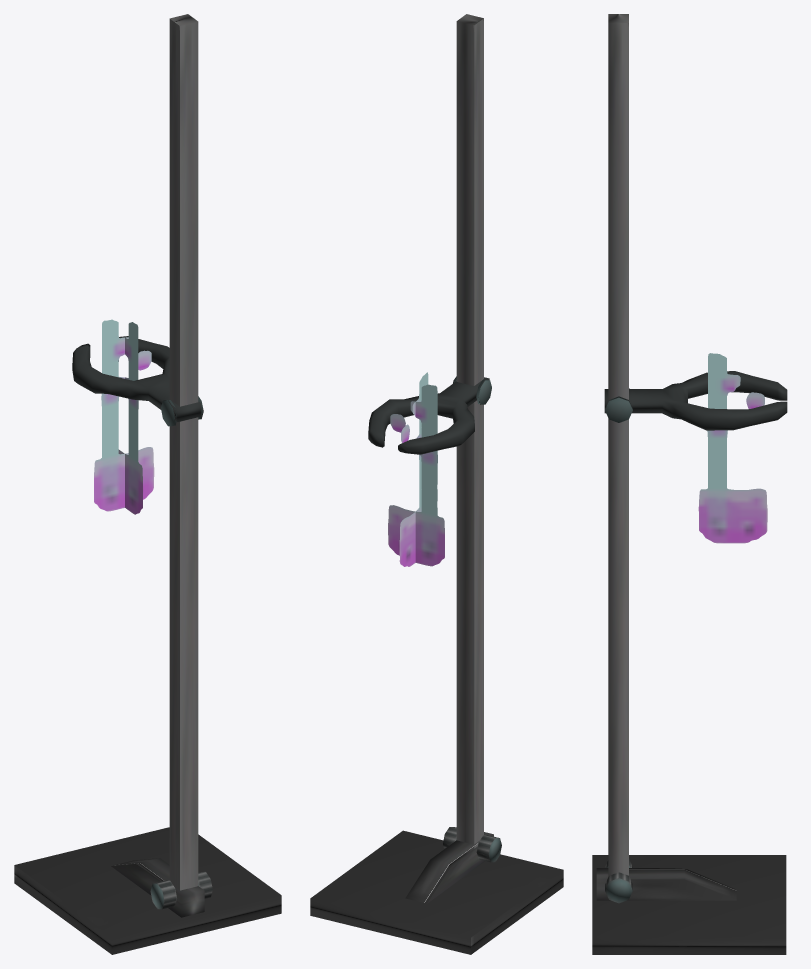
Rendered from LabDesk_Object_SupportStand.fbx.
The picture shows the model from 3 angles, left to right: view 1: azimuth 30°, elevation 25°; view 2: azimuth 150°, elevation 25°; view 3: azimuth 270°, elevation 25°; orthographic projection. The views are drawn at different scales.
Visible parts, largest first — view 1: pCube5; view 2: pCube5; view 3: pCube5.
Part boxes in pixels (x1,y1,x2,y2): pCube5: (14, 14, 281, 954); pCube5: (310, 14, 563, 954); pCube5: (592, 14, 787, 954).
Bounding box in the file's own units: 8.6 × 43.84 × 9.06.
Materials: 1 (1 with a texture image).
